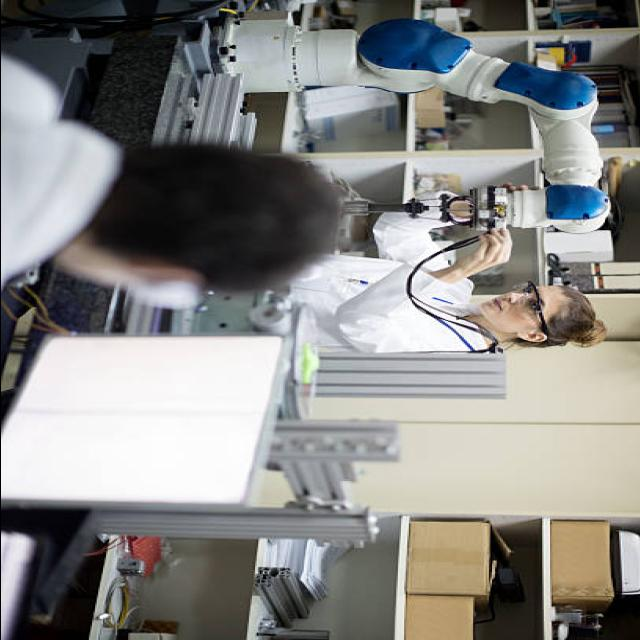Robotic-arm: (217, 14, 613, 238)
